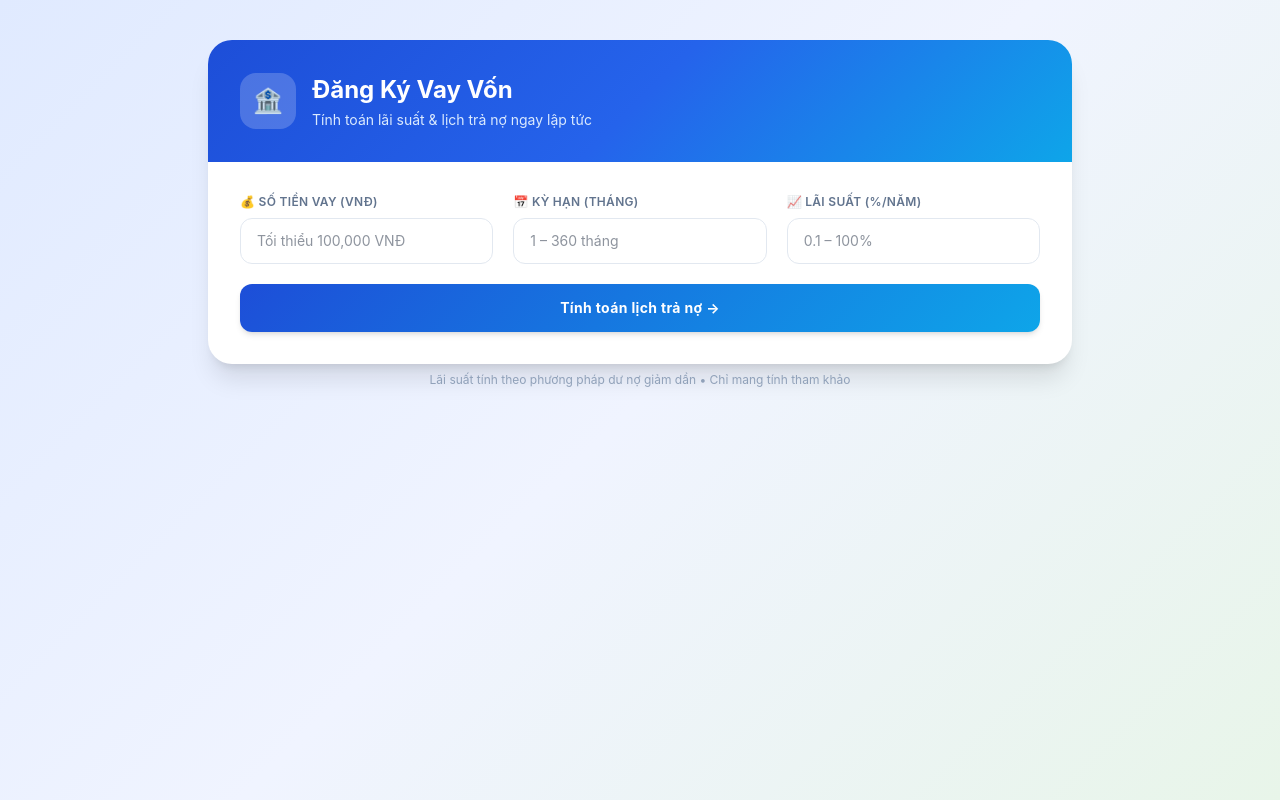
Test case: LoanRegistrationForm — validation errors › shows only principal error when only principal is invalid
Type "12" into the number field labelled "📅 Kỳ hạn (tháng)". click: coordinates (640, 241)
box: 513,218 -> 767,264
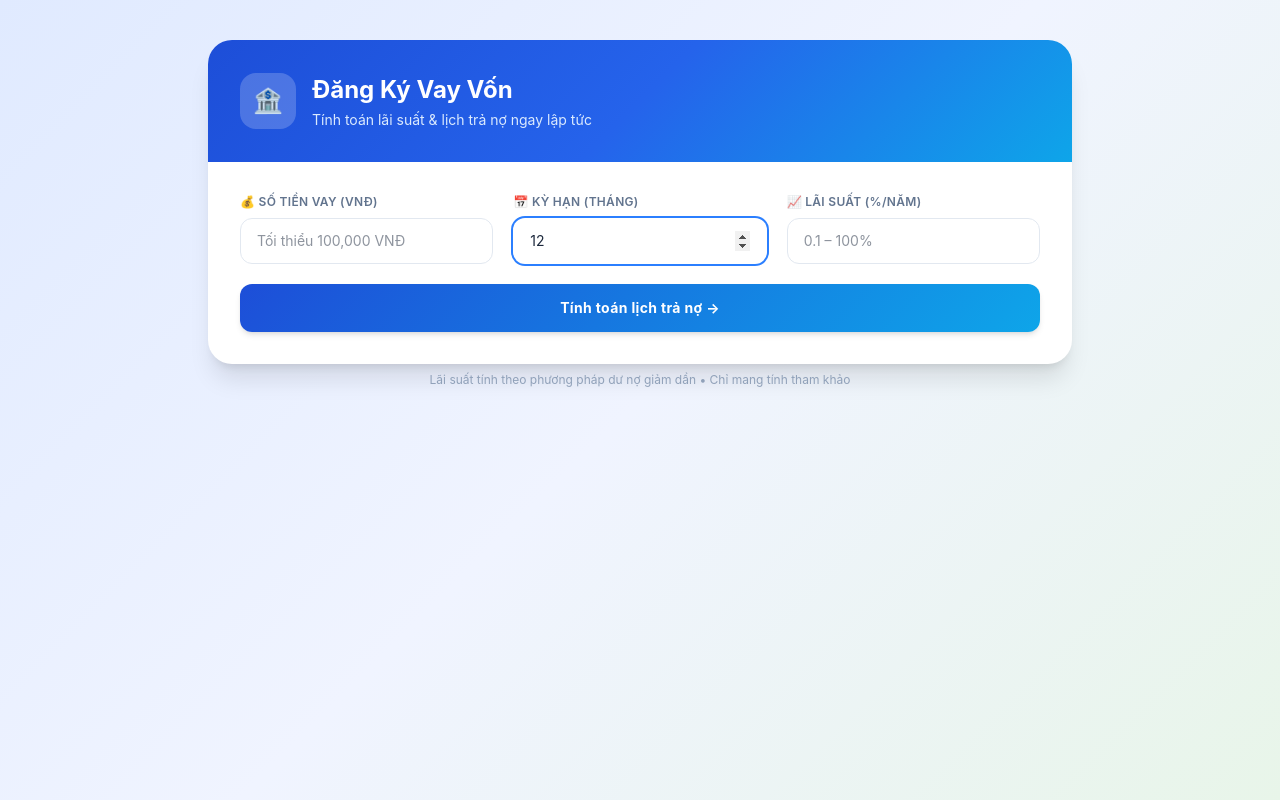
Type "12" into the number field labelled "📈 Lãi suất (%/năm)". click: coordinates (913, 241)
box: 787,218 -> 1040,264
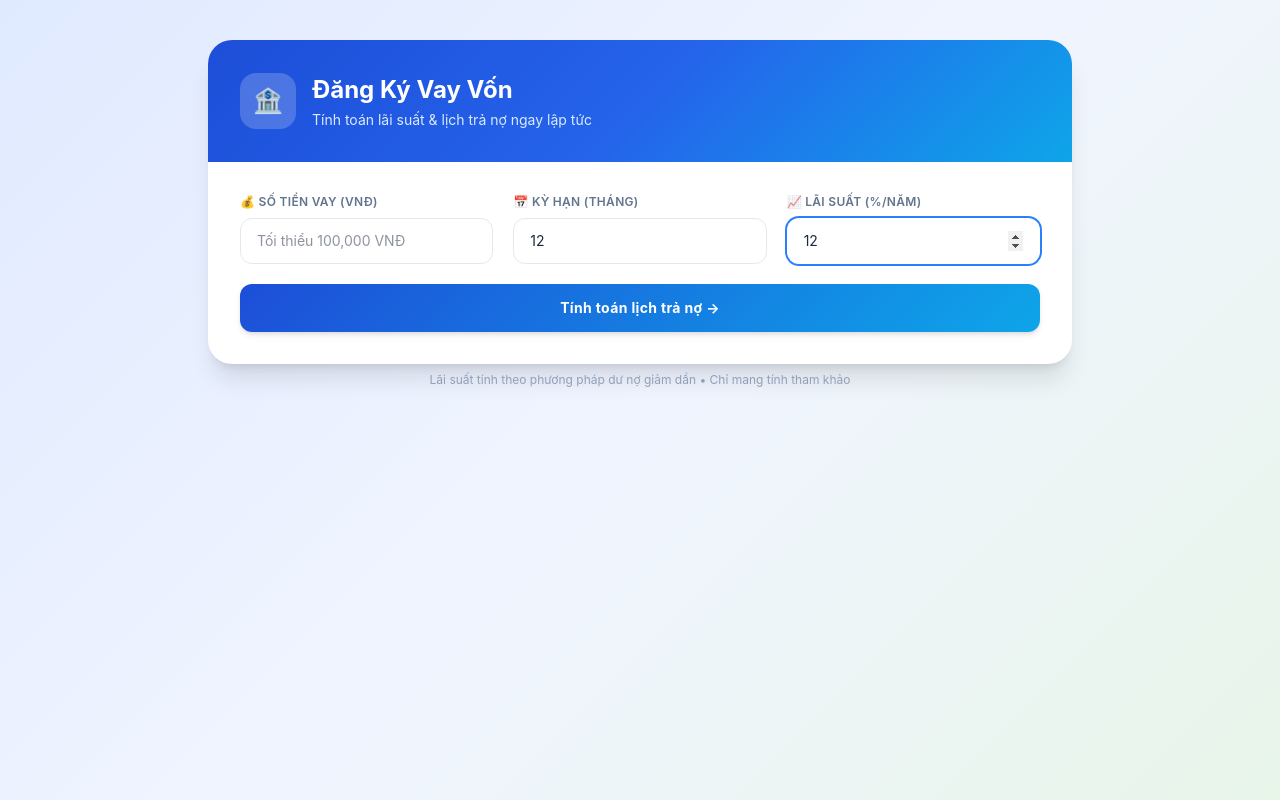
Click the button "Tính toán lịch trả nợ →". click: coordinates (640, 308)
box: 240,284 -> 1040,332
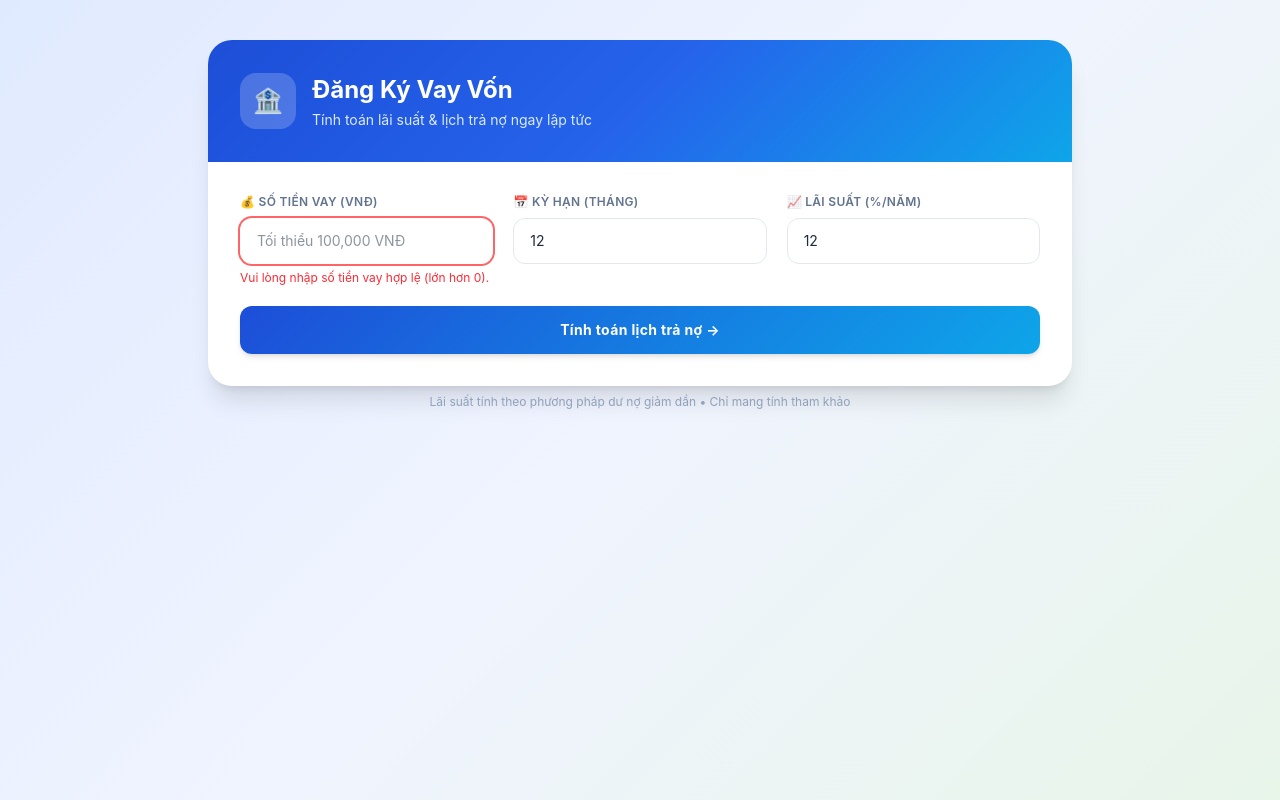
Result: the text "Vui lòng nhập số tiền vay hợp lệ (lớn hơn 0)." is shown at 240,270 -> 493,286
